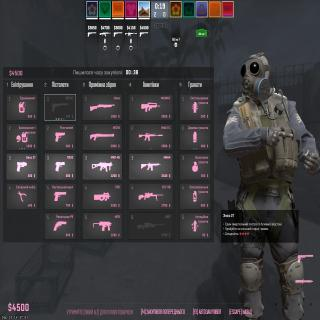CT-Body: (223, 51, 320, 320)
CT-Head: (240, 52, 271, 103)
